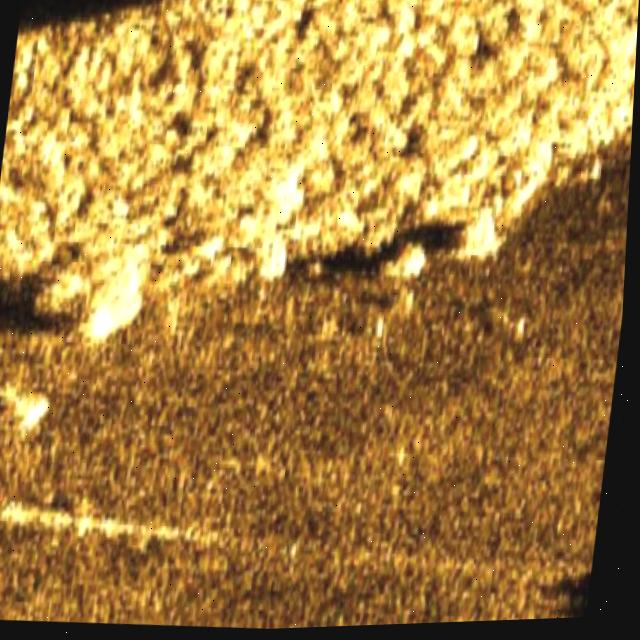bedrock group: (0, 0, 640, 385)
